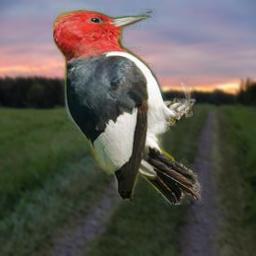Woodpecker: (53, 8, 204, 205)
